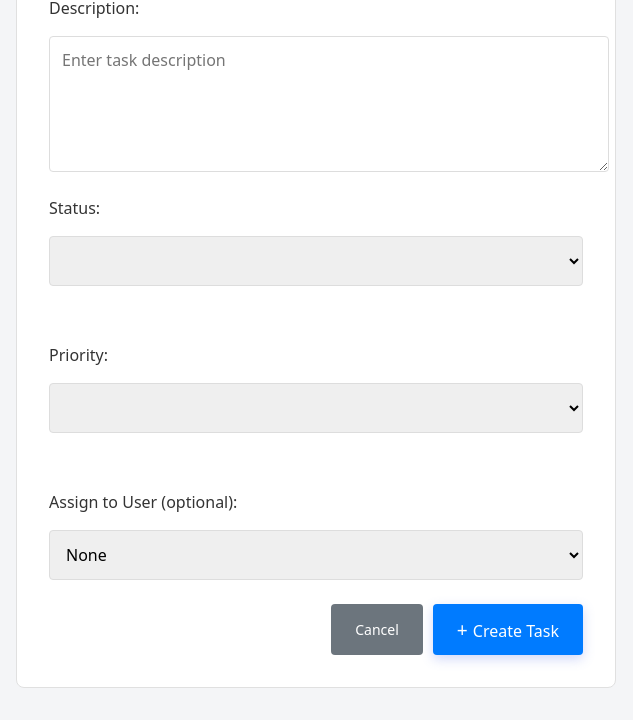
Scenario: TaskCreate › shows validation error for title when submitted empty
This screenshot has width=633, height=720.
(page scrolled)
Click the button "Create Task" at (508, 629), box [433,604,583,655]
(page scrolled)
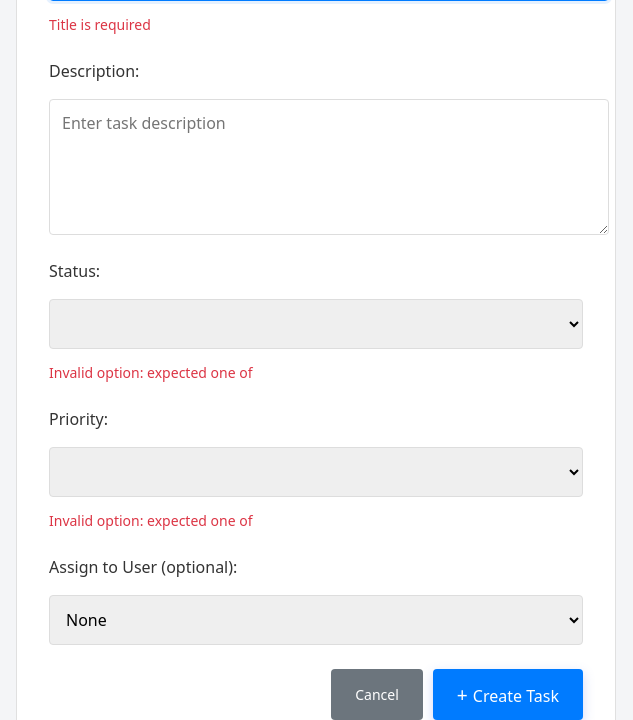
Expected: the text "Title is required" is shown, [49,15,151,34]
